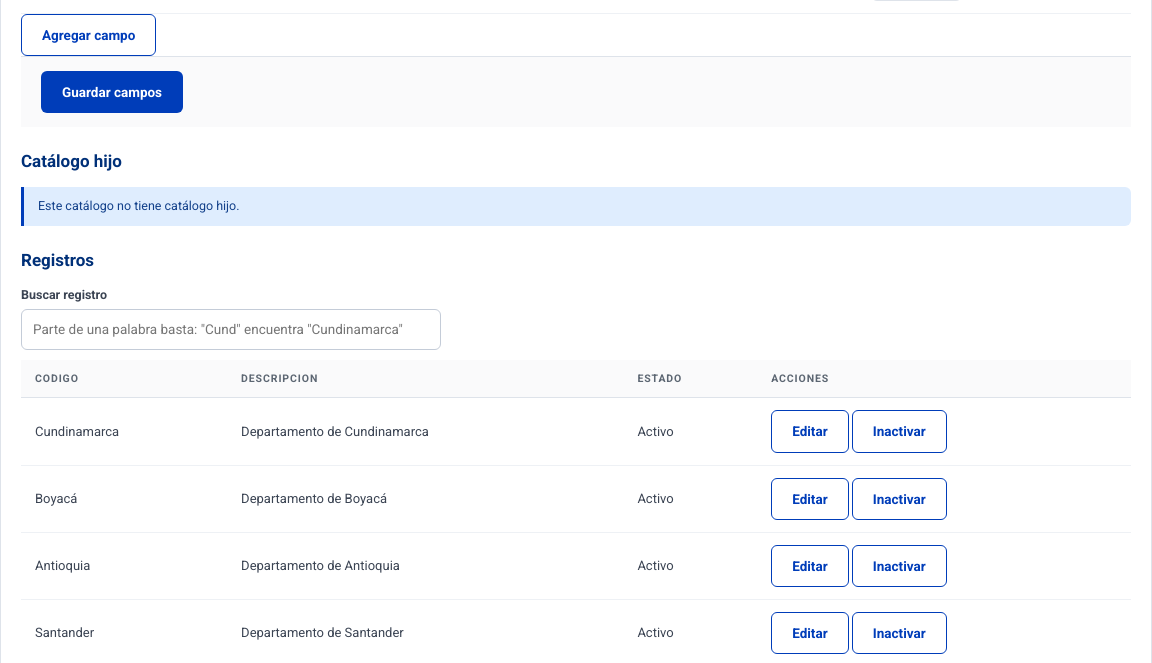
Test case: búsqueda en catálogos y registros › en un catálogo, "Cund" encuentra "Cundinamarca"
(page scrolled)
expect the text "Cundinamarca" is shown: met, box [21,398,227,465]
Step 1. Type "Cund" into the search field labelled "Buscar registro" → {"x": 231, "y": 329}, box [21,309,441,350]
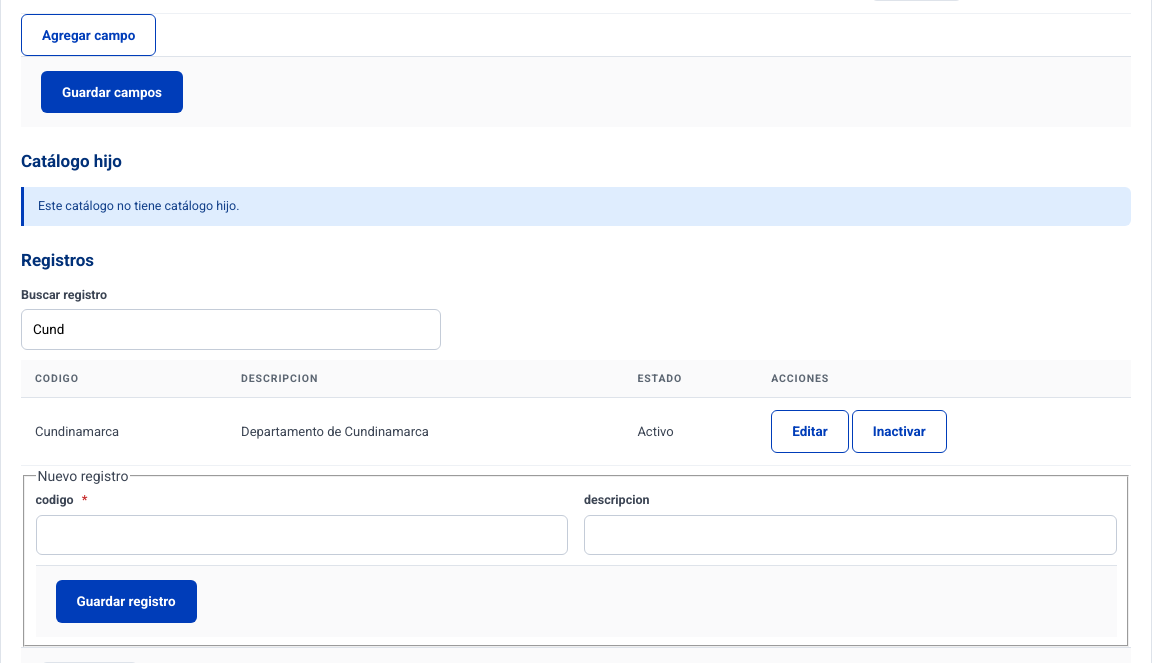
expect the text "Cundinamarca" is shown: met, box [21,398,227,465]
expect the text "Boyacá" is gone: met
expect the text "Antioquia" is gone: met
